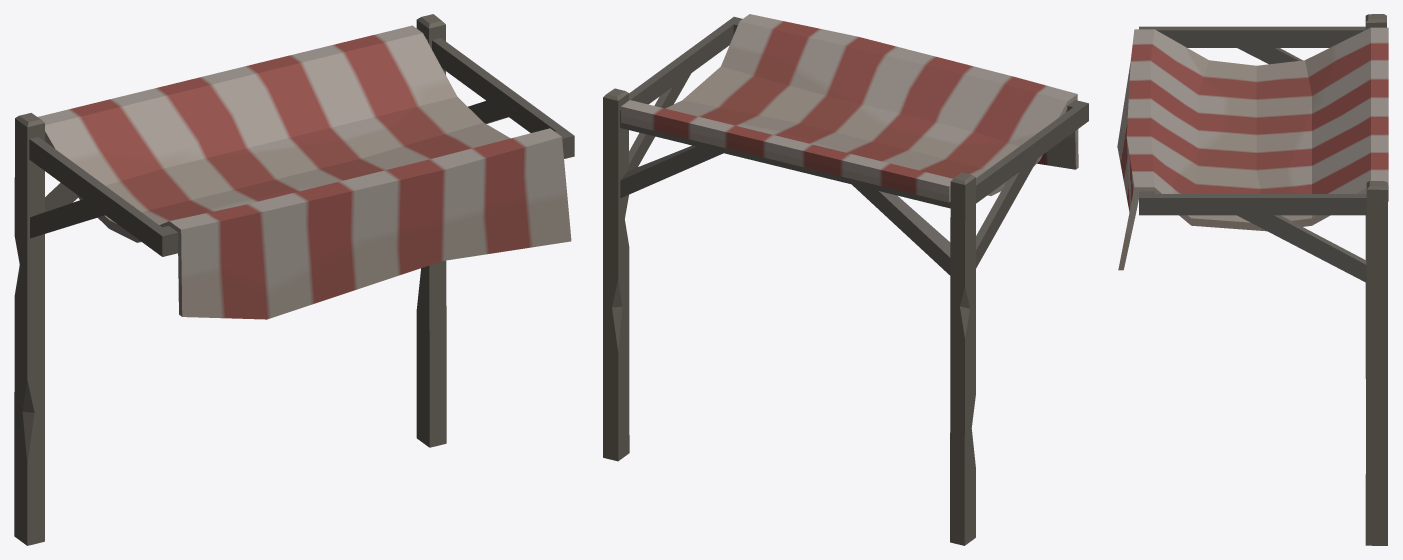
File: SM_Bld_Village_ClothCover_02.glb
3 views of the same model, side by side, from view 1: azimuth 30°, elevation 25°; view 2: azimuth 150°, elevation 25°; view 3: azimuth 270°, elevation 25° (orthographic). The views are drawn at different scales.
Visible parts, largest first — view 1: SM_Bld_Village_ClothCover_02; view 2: SM_Bld_Village_ClothCover_02; view 3: SM_Bld_Village_ClothCover_02.
Boxes of the visible parts, <box> form: SM_Bld_Village_ClothCover_02: <box>14,14,574,545</box>; SM_Bld_Village_ClothCover_02: <box>603,14,1088,545</box>; SM_Bld_Village_ClothCover_02: <box>1117,14,1388,545</box>.
Size of the model in its own units: 3.63 by 3.49 by 2.39.
Materials: 1 (1 with a texture image).
